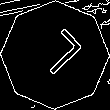L_SW: (26, 26, 84, 84)
